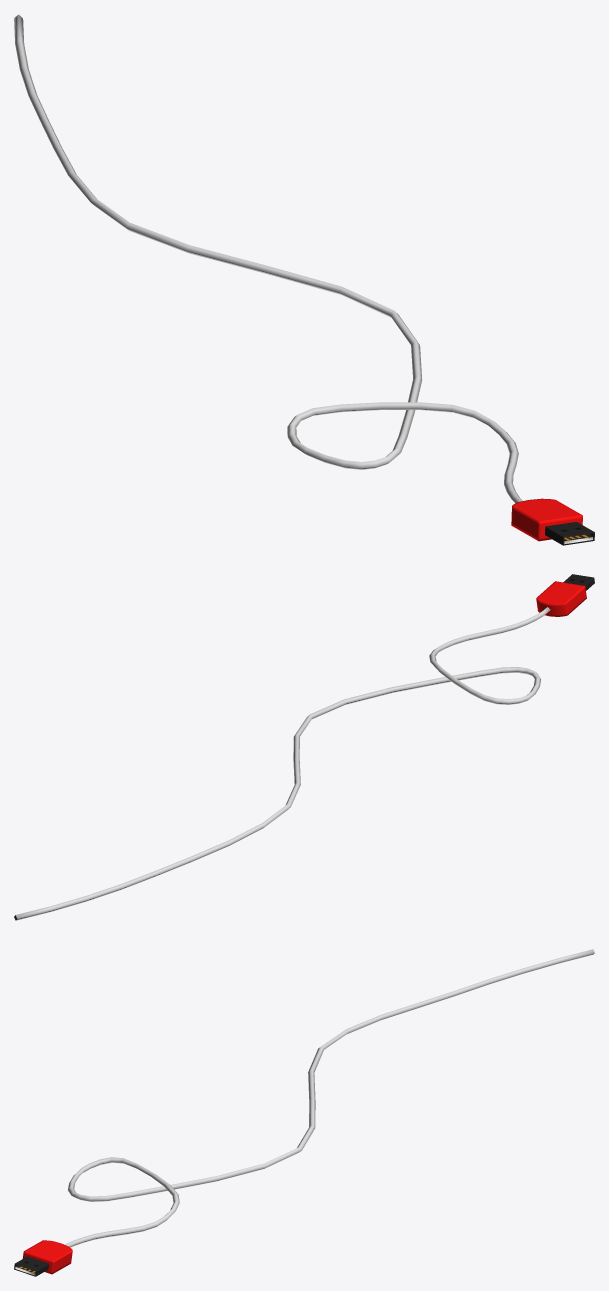
The model's file is UBS_charger_2.FBX.
3 renders of one model, top to bottom at view 1: azimuth 30°, elevation 25°; view 2: azimuth 150°, elevation 25°; view 3: azimuth 330°, elevation 25°, orthographic. The views are drawn at different scales.
Visible parts, largest first — view 1: UBS_charger_2_cable, UBS_charger_2; view 2: UBS_charger_2_cable, UBS_charger_2; view 3: UBS_charger_2_cable, UBS_charger_2.
Part boxes in pixels (x1,y1,x2,y2): UBS_charger_2_cable: [14, 14, 522, 503]; UBS_charger_2: [511, 498, 594, 545]; UBS_charger_2_cable: [14, 607, 550, 920]; UBS_charger_2: [536, 574, 594, 616]; UBS_charger_2_cable: [65, 949, 594, 1247]; UBS_charger_2: [14, 1240, 72, 1276].
Size of the model in its own units: 1495 by 168 by 7573.
